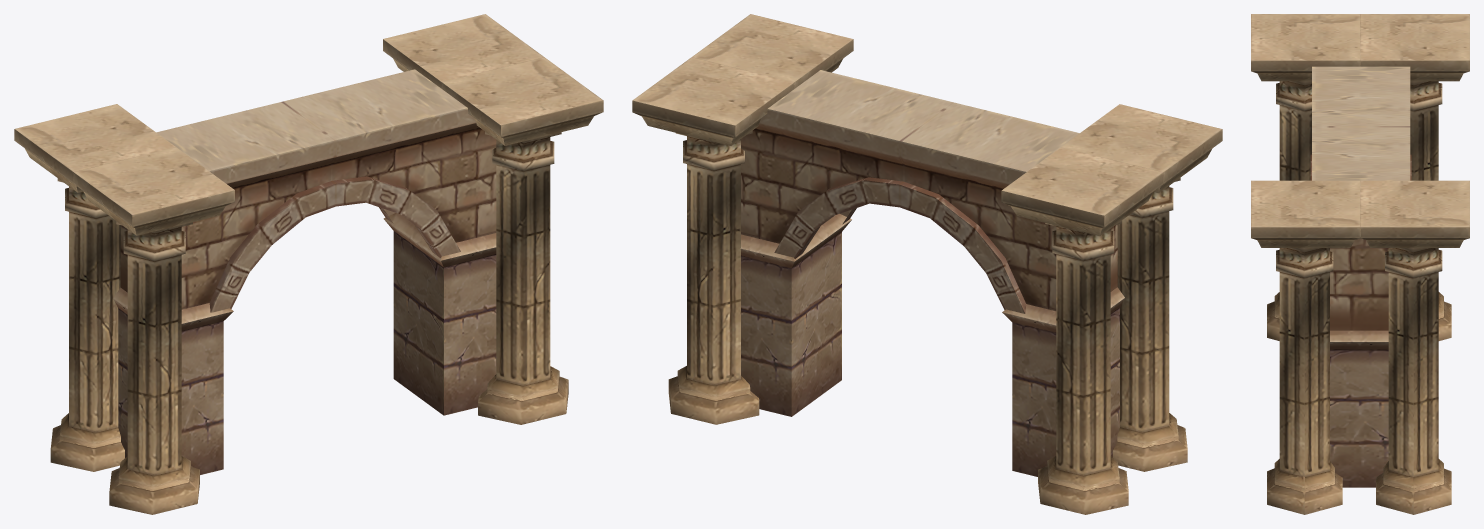
File: Arena1_colosseum.FBX
3 renders of one model, left to right at view 1: azimuth 30°, elevation 25°; view 2: azimuth 150°, elevation 25°; view 3: azimuth 270°, elevation 25°, orthographic. The views are drawn at different scales.
Visible parts, largest first — view 1: Arena1_colosseum; view 2: Arena1_colosseum; view 3: Arena1_colosseum.
Boxes of the visible parts, left/top/right/bottom form: Arena1_colosseum: left=14, top=14, right=603, bottom=514; Arena1_colosseum: left=632, top=14, right=1222, bottom=514; Arena1_colosseum: left=1251, top=14, right=1469, bottom=514.
Bounding box in the file's own units: 775 × 492 × 336.
